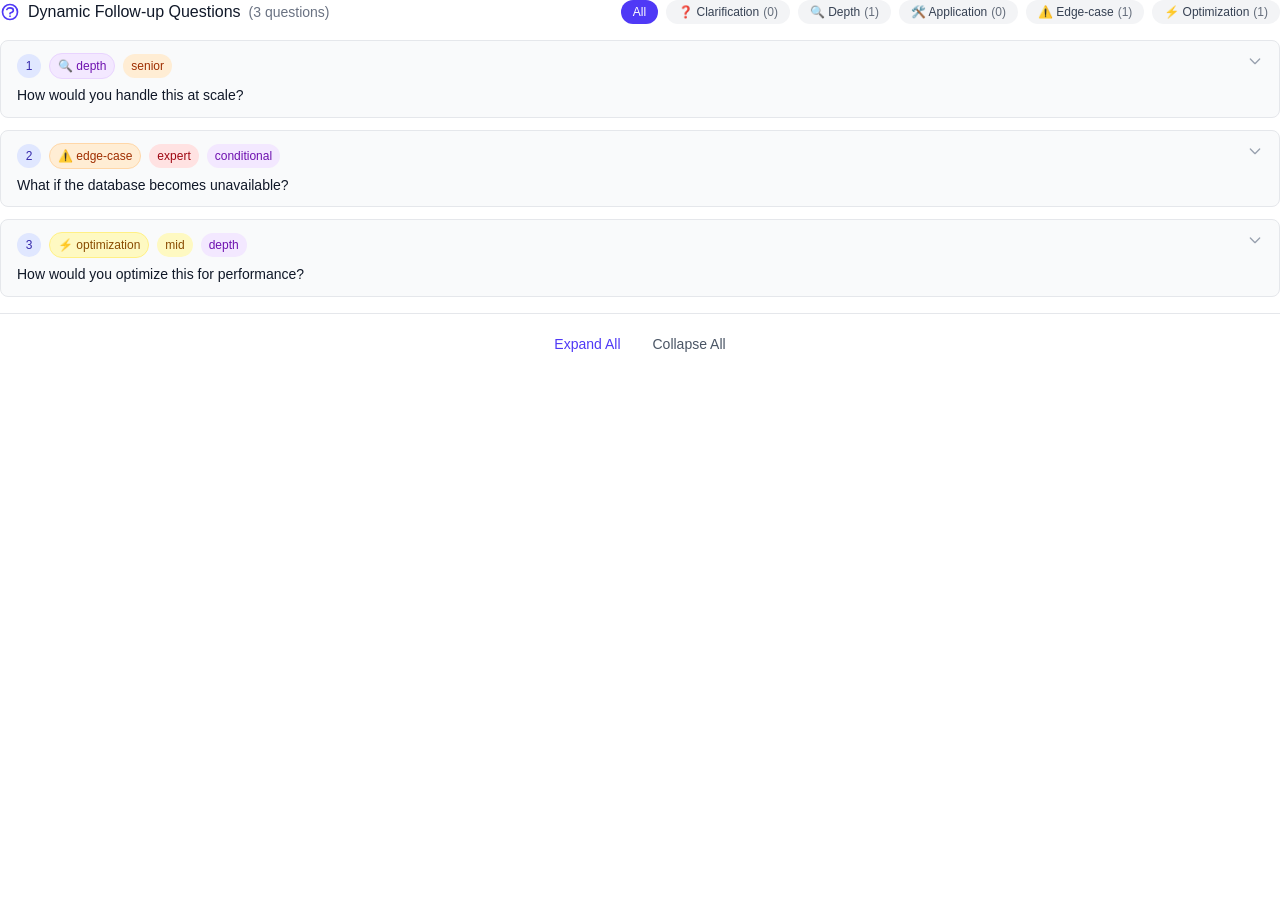
FollowUpQuestions › handles expand all and collapse all
# Click expand all
Click the button "Expand All" at (587, 344), box left=542, top=330, right=632, bottom=358
(page scrolled)
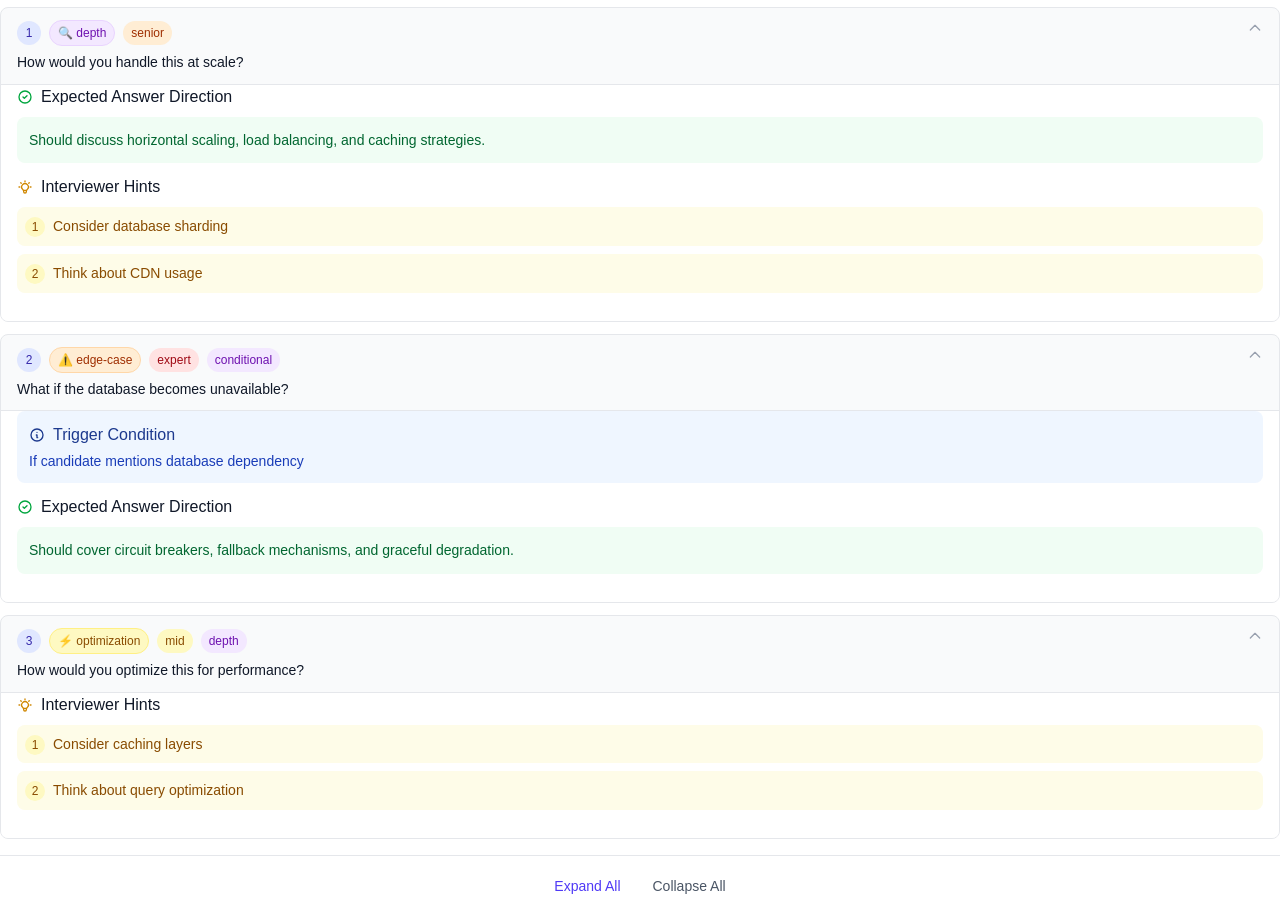
Now the number of headings "Expected Answer Direction" is 2, box left=17, top=88, right=232, bottom=104; left=17, top=498, right=232, bottom=515
# Click collapse all
Click the button "Collapse All" at (689, 886), box left=640, top=872, right=738, bottom=899
(page scrolled)
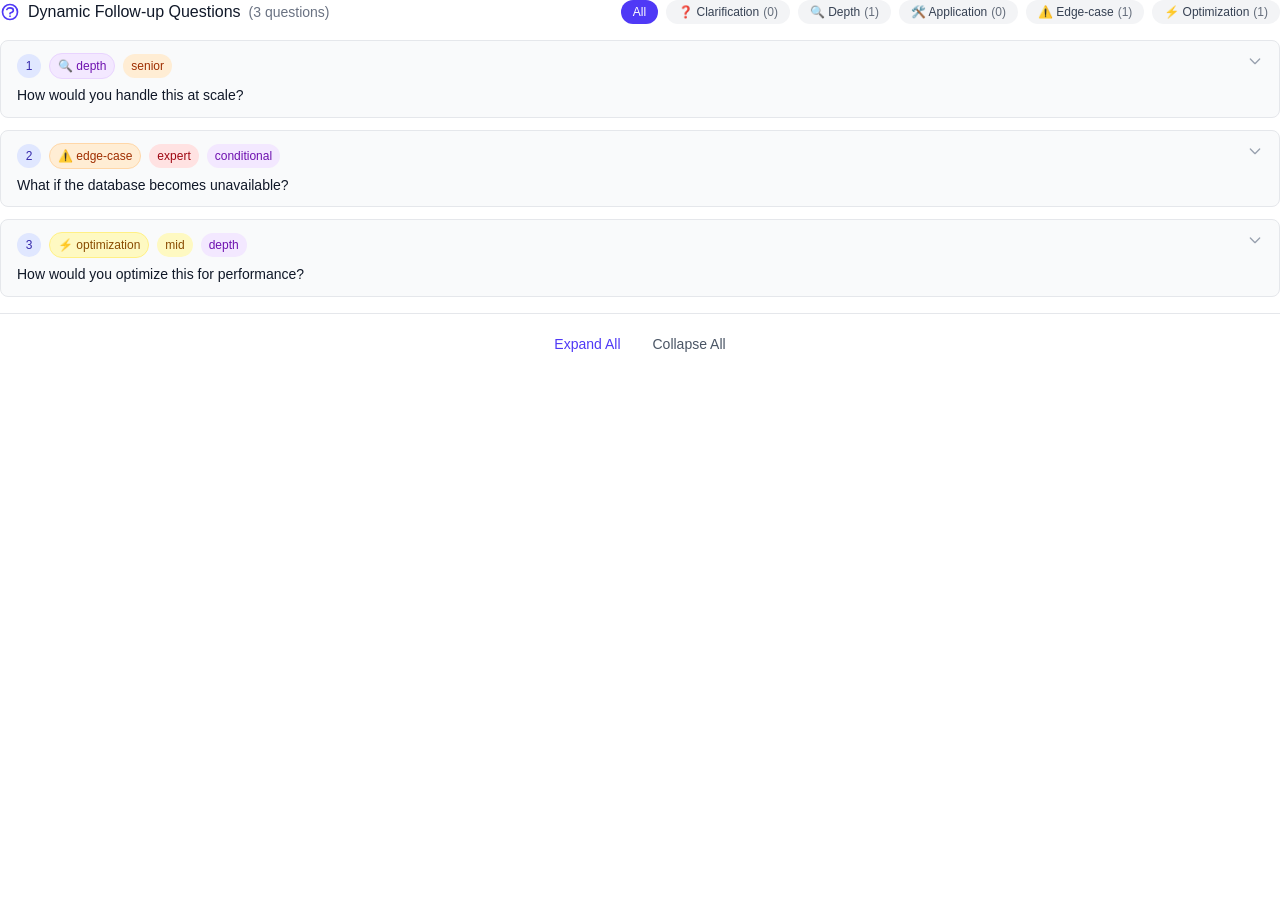
Now the heading "Expected Answer Direction" is gone
